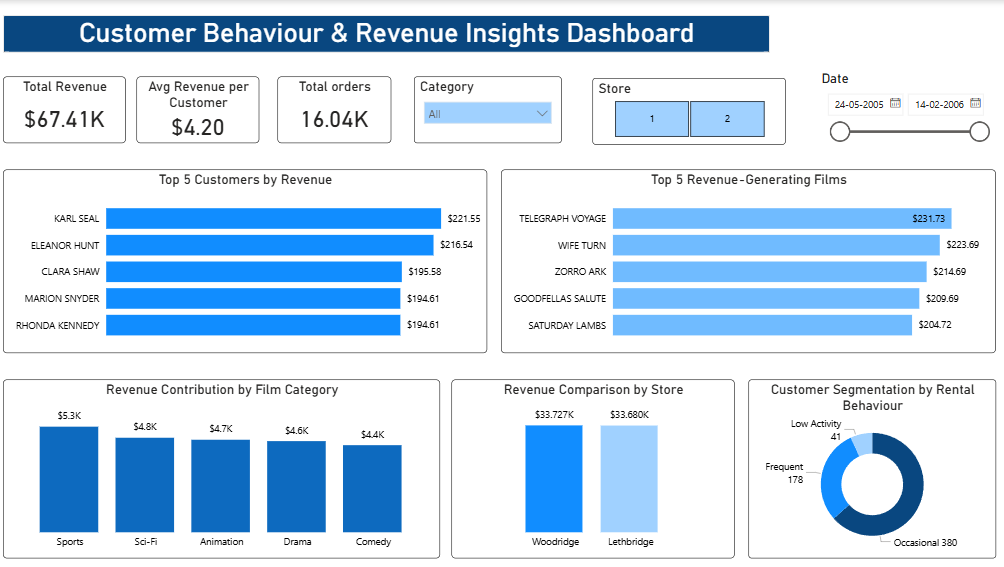

The dashboard page shown, as its layout file describes it:
{"tool":"powerbi","page":{"name":"Page 1","canvas":[1280,720],"ordinal":0},"visuals":[{"type":"barChart","title":"Top 5 Customers by Revenue","fields":{"Category":["DVD RENTAL BUSINESS.customer_name"],"Y":["Sum(DVD RENTAL BUSINESS.payment_amount)"]},"box":[11.8,213.7,609.8,231.4],"z":0},{"type":"barChart","title":"Top 5 Revenue-Generating Films","fields":{"Category":["DVD RENTAL BUSINESS.film_title"],"Y":["Sum(DVD RENTAL BUSINESS.payment_amount)"]},"box":[639.2,213.7,623.5,231.4],"z":1000},{"type":"clusteredColumnChart","title":"Revenue Comparison by Store","fields":{"Category":["DVD RENTAL BUSINESS.city"],"Y":["Sum(DVD RENTAL BUSINESS.payment_amount)"]},"box":[576.5,478.4,356.9,225.5],"z":2000},{"type":"columnChart","title":"Revenue Contribution by Film Category","fields":{"Category":["DVD RENTAL BUSINESS.category"],"Y":["Sum(DVD RENTAL BUSINESS.payment_amount)"]},"box":[11.8,478.4,551,225.5],"z":3000},{"type":"donutChart","title":"Customer Segmentation by Rental Behaviour","fields":{"Category":["customer segment.customer_segment"],"Y":["Sum(customer segment.number_of_customers)"]},"box":[951,478.4,311.8,225.5],"z":4000},{"type":"card","title":"Total Revenue","fields":{"Values":["Sum(DVD RENTAL BUSINESS.payment_amount)"]},"box":[11.8,96.1,154.9,84.3],"z":5000},{"type":"textbox","title":"Customer Behaviour & Revenue Insights Dashboard","box":[11.3,18.9,965.7,47.2],"z":6000},{"type":"card","title":"Total orders","fields":{"Values":["CountNonNull(DVD RENTAL BUSINESS.customer_id)"]},"box":[356.9,96.1,143.1,84.3],"z":7000},{"type":"slicer","title":"Store","fields":{"Values":["DVD RENTAL BUSINESS.store_id"]},"box":[754.9,98,243.1,84.3],"z":8000},{"type":"slicer","title":"Category","fields":{"Values":["DVD RENTAL BUSINESS.category"]},"box":[529.4,96.1,186.3,84.3],"z":9000},{"type":"card","title":"Avg Revenue per Customer","fields":{"Values":["Avg(DVD RENTAL BUSINESS.payment_amount)"]},"box":[180.4,96.1,154.9,84.3],"z":10000},{"type":"slicer","title":"Date","fields":{"Values":["DVD RENTAL BUSINESS.payment_date"]},"box":[1037.3,88.2,225.5,105.9],"z":11000}]}

Visuals, with their boxes in screenshot pixels (x1, y1, x2, y2), scaled from the page's 1280x720 canvas onto the 1004x567 screenshot:
"Top 5 Customers by Revenue" barChart: 9/168/488/351
"Top 5 Revenue-Generating Films" barChart: 501/168/990/351
"Revenue Comparison by Store" clusteredColumnChart: 452/377/732/554
"Revenue Contribution by Film Category" columnChart: 9/377/441/554
"Customer Segmentation by Rental Behaviour" donutChart: 746/377/991/554
"Total Revenue" card: 9/76/131/142
"Customer Behaviour & Revenue Insights Dashboard" textbox: 9/15/766/52
"Total orders" card: 280/76/392/142
"Store" slicer: 592/77/783/144
"Category" slicer: 415/76/561/142
"Avg Revenue per Customer" card: 142/76/263/142
"Date" slicer: 814/69/991/153
